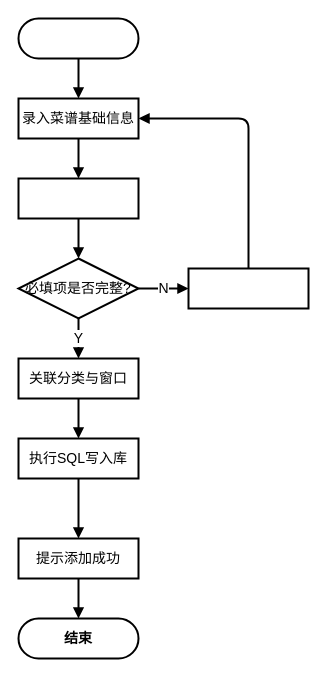
Some shapes in this 326 by 676 pixel diagram are drawn without their labels. The centre of each missing label's shape, as x and y in pixels:
"上传菜谱图片" goes at point 78,198.
"开始" goes at point 78,38.
"提示补充信息" goes at point 248,288.
